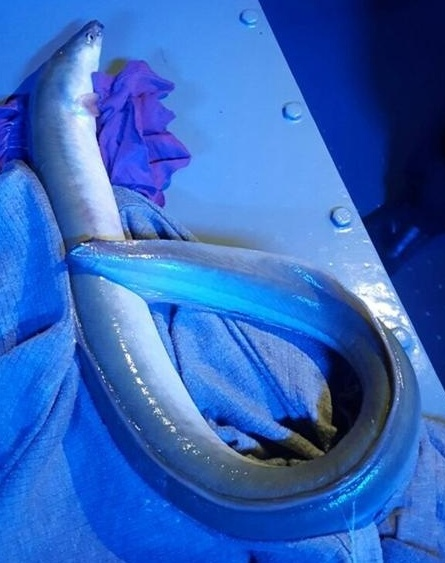Anguilla anguilla: (20, 20, 425, 543)
